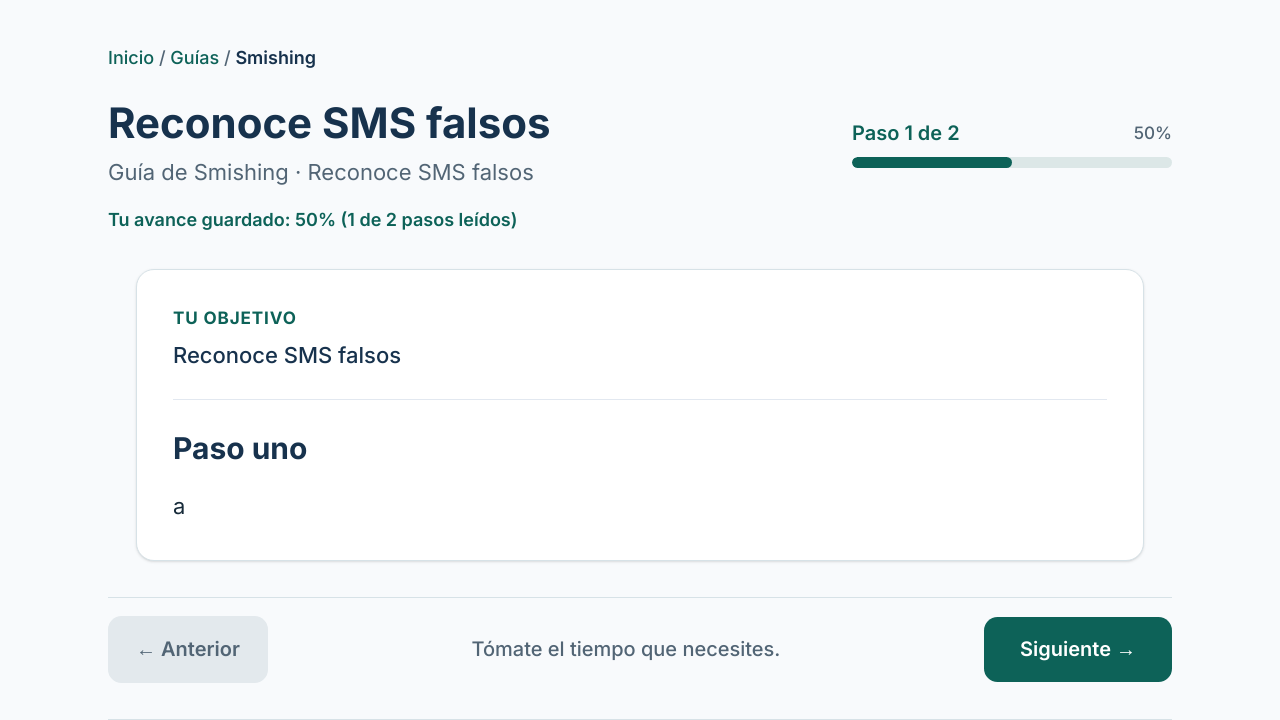
Test case: GuiaDetallePage · avance guardado (HU-23) › registrado: un solo POST por paso (aun con StrictMode) y muestra el avance devuelto
Check: the text "Tu avance guardado: 50% (1 de 2 pasos leídos)" is shown, box [108,209,518,230]
Click the button "Siguiente →". click: (1078, 650)
box: [984,617,1172,682]
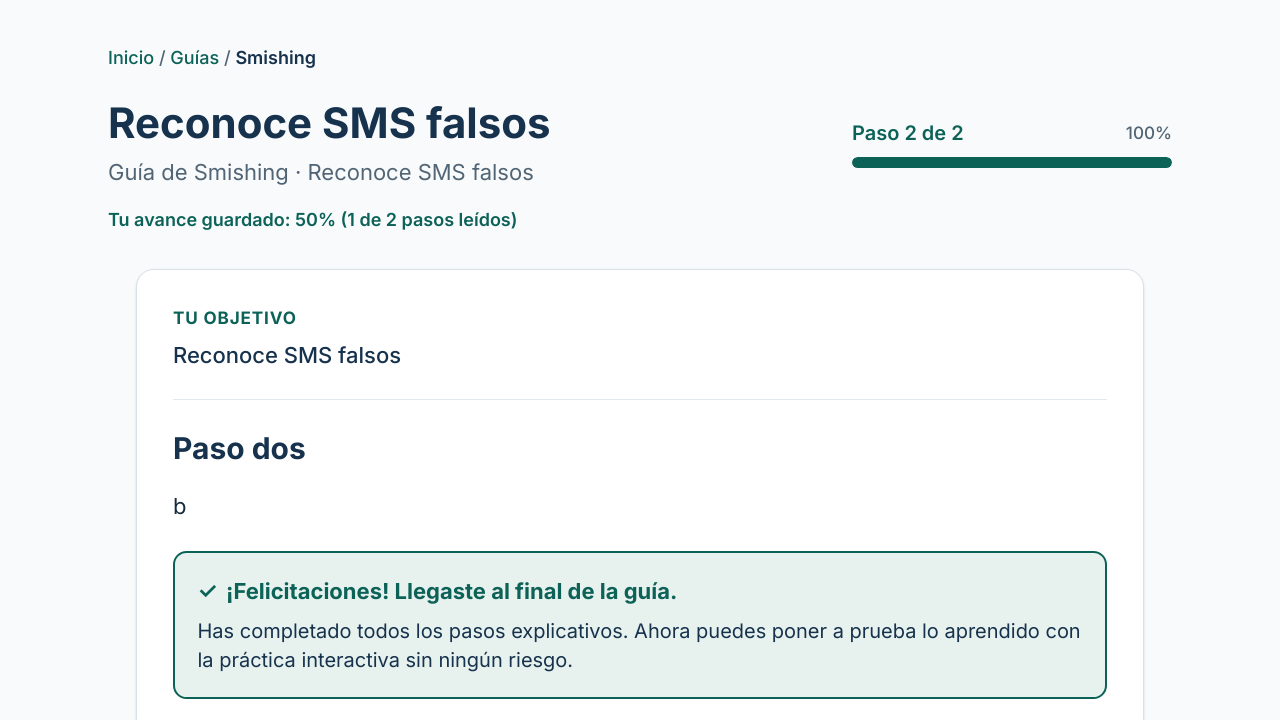
Check: the heading "Paso dos" is shown, box [173,430,306,466]
